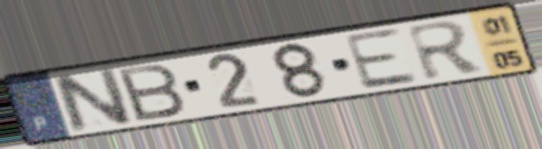2: (206, 52, 263, 110)
8: (270, 40, 331, 102)
B: (113, 61, 189, 124)
E: (339, 26, 422, 92)
N: (47, 65, 137, 136)
R: (402, 18, 489, 83)
